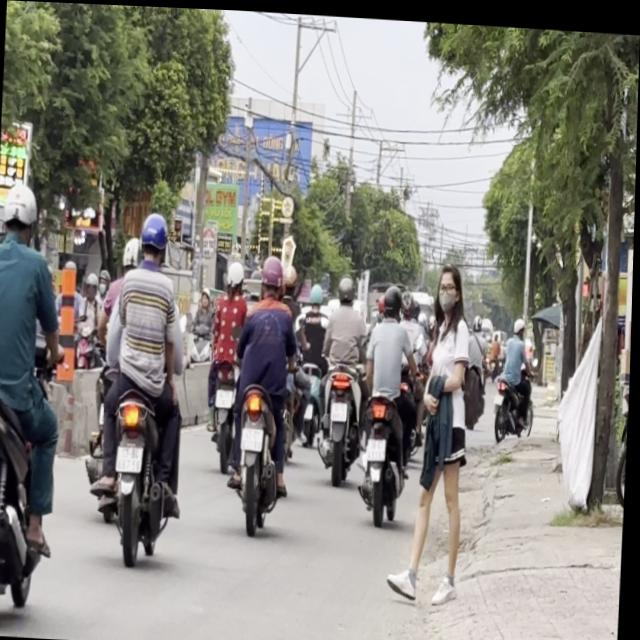helmet: (0, 177, 40, 242), (138, 206, 170, 262), (258, 249, 284, 294), (381, 279, 403, 315), (224, 255, 246, 291), (120, 231, 140, 268), (336, 269, 356, 300), (281, 259, 298, 294)
licenseplate: (83, 203, 197, 565), (0, 174, 74, 631), (225, 245, 302, 528), (357, 276, 422, 519), (316, 265, 371, 480), (202, 251, 251, 466)
nohelmet: (117, 442, 143, 469), (241, 421, 264, 446), (367, 432, 386, 455), (217, 384, 234, 404), (332, 397, 348, 416)
